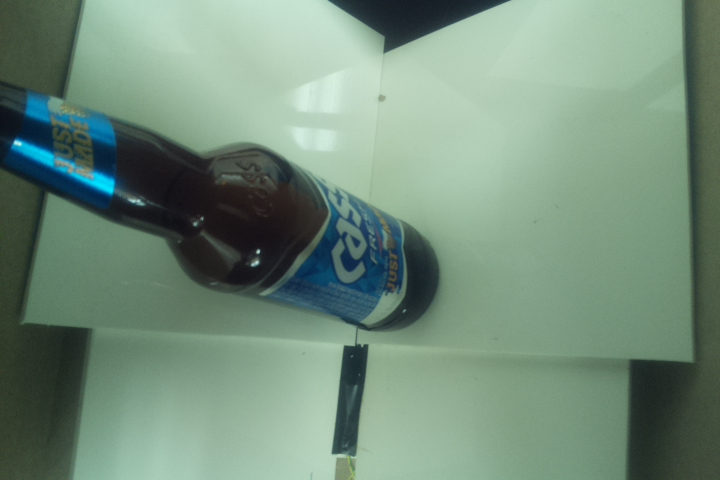makju: (1, 74, 442, 335)
